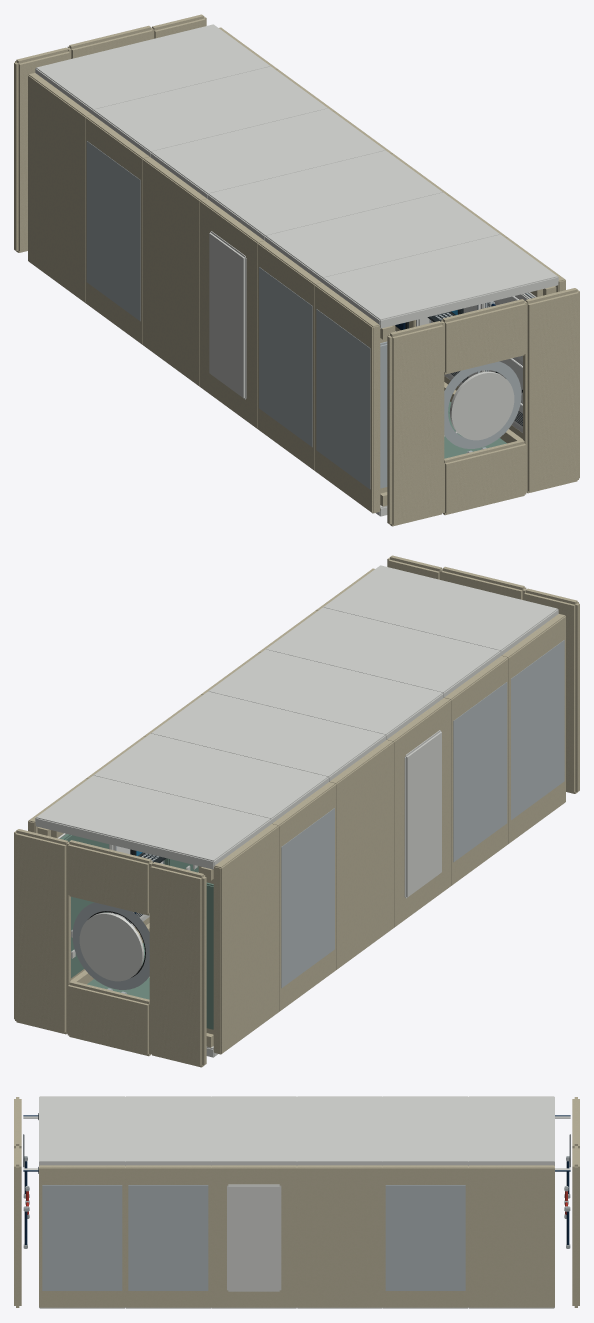
Rendered from zvezda_optimized.glb.
3 renders of one model, top to bottom at view 1: azimuth 30°, elevation 25°; view 2: azimuth 150°, elevation 25°; view 3: azimuth 270°, elevation 25°, orthographic. The views are drawn at different scales.
Visible parts, largest first — view 1: zvezda_interior; view 2: zvezda_interior; view 3: zvezda_interior.
Part boxes in pixels (<box>): zvezda_interior: <box>14,14,579,526</box>; zvezda_interior: <box>14,555,579,1067</box>; zvezda_interior: <box>14,1096,579,1308</box>.
Bounding box in the file's own units: 3.16 × 3 × 10.44.
15 materials, 2 textured.
